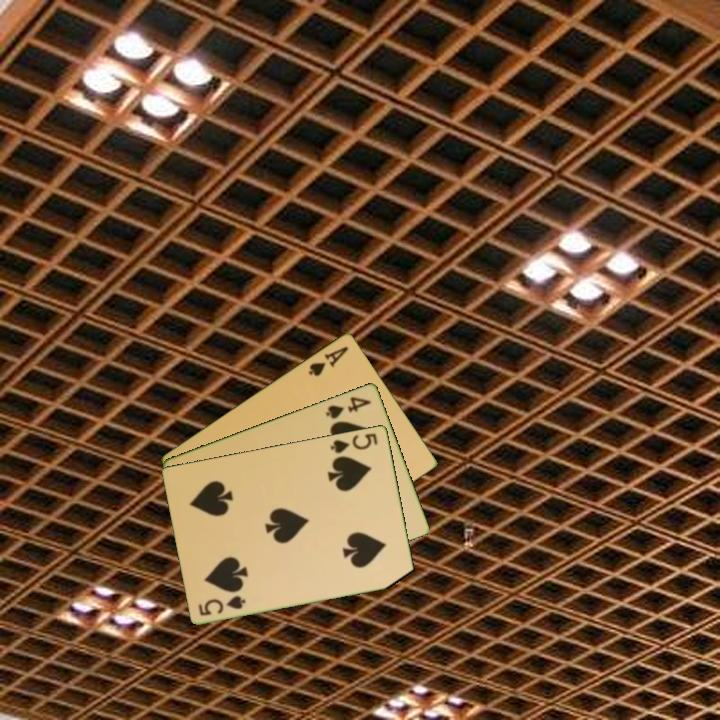4s: (322, 393, 374, 421)
5s: (327, 429, 381, 456), (195, 592, 249, 618)
As: (304, 342, 351, 379)
